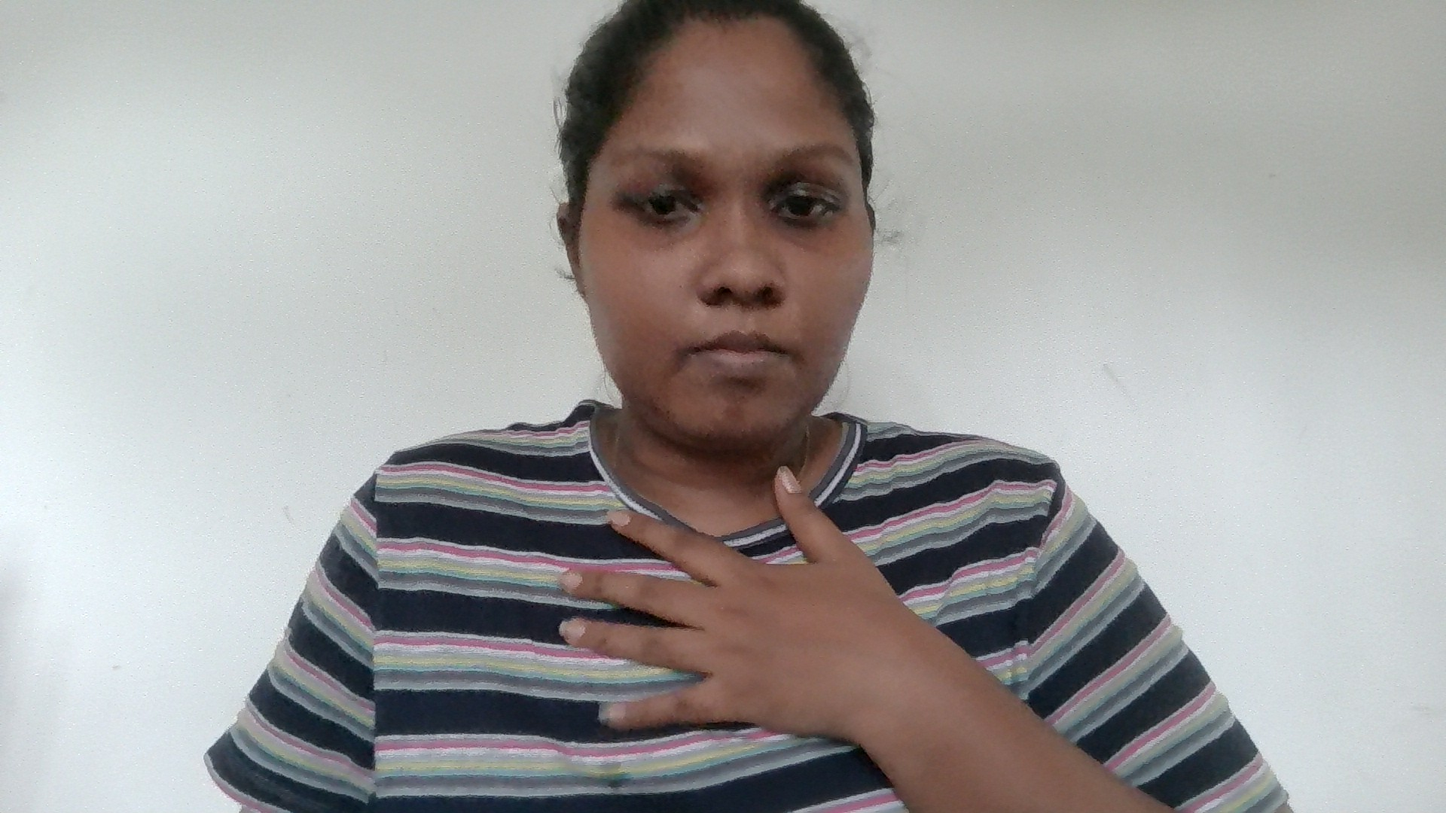Please: (555, 475, 878, 777)
